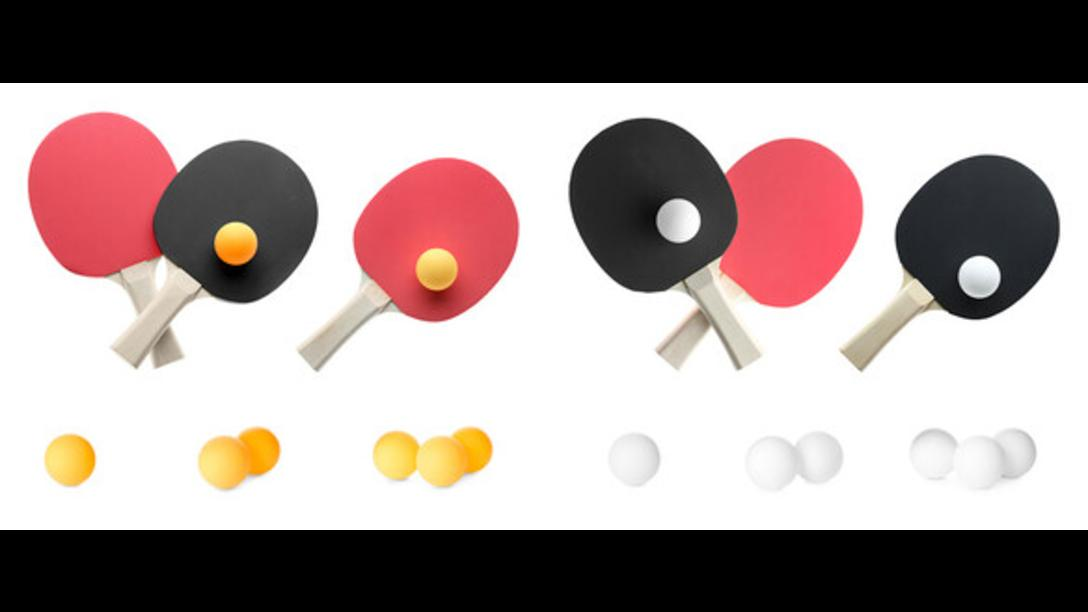Table-Tennis-Ball: (609, 431, 659, 485), (747, 435, 795, 489), (909, 427, 957, 477), (416, 436, 464, 486), (797, 431, 843, 482), (959, 434, 1001, 487), (373, 430, 419, 476), (996, 429, 1036, 477), (658, 198, 700, 242), (958, 254, 1000, 296), (416, 246, 456, 290), (454, 426, 492, 472), (216, 221, 256, 263)
